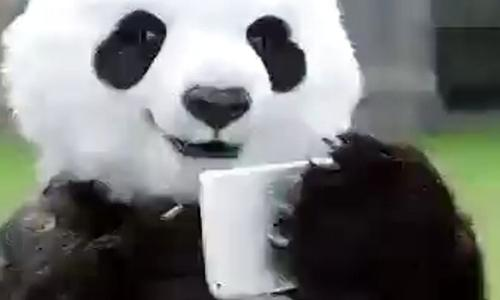panda: (7, 1, 484, 299)
